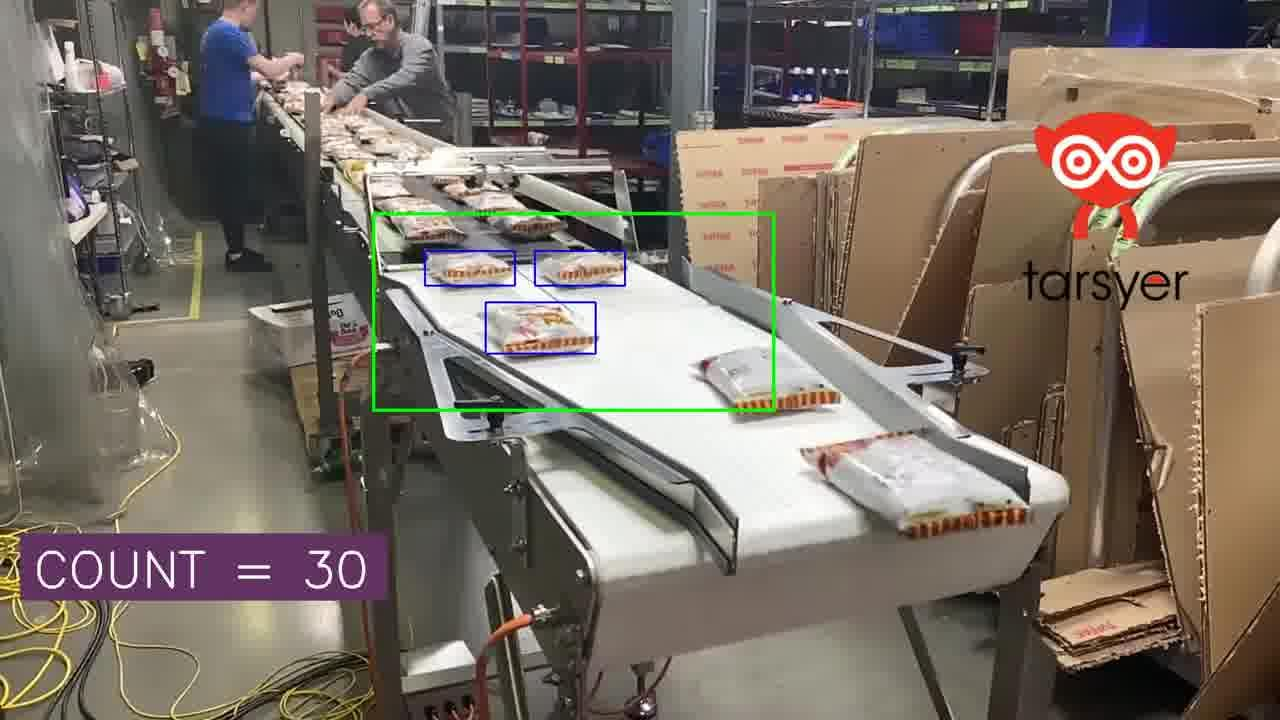Snack: (801, 431, 1029, 537), (486, 304, 594, 352), (697, 347, 772, 408), (427, 252, 513, 284), (539, 252, 625, 283), (387, 215, 464, 243), (489, 215, 566, 239), (461, 190, 528, 212), (443, 179, 500, 201), (364, 136, 417, 158), (368, 176, 411, 200), (349, 124, 397, 143), (337, 159, 369, 187), (325, 145, 374, 161), (321, 135, 360, 153), (282, 94, 304, 114), (432, 175, 462, 187)
